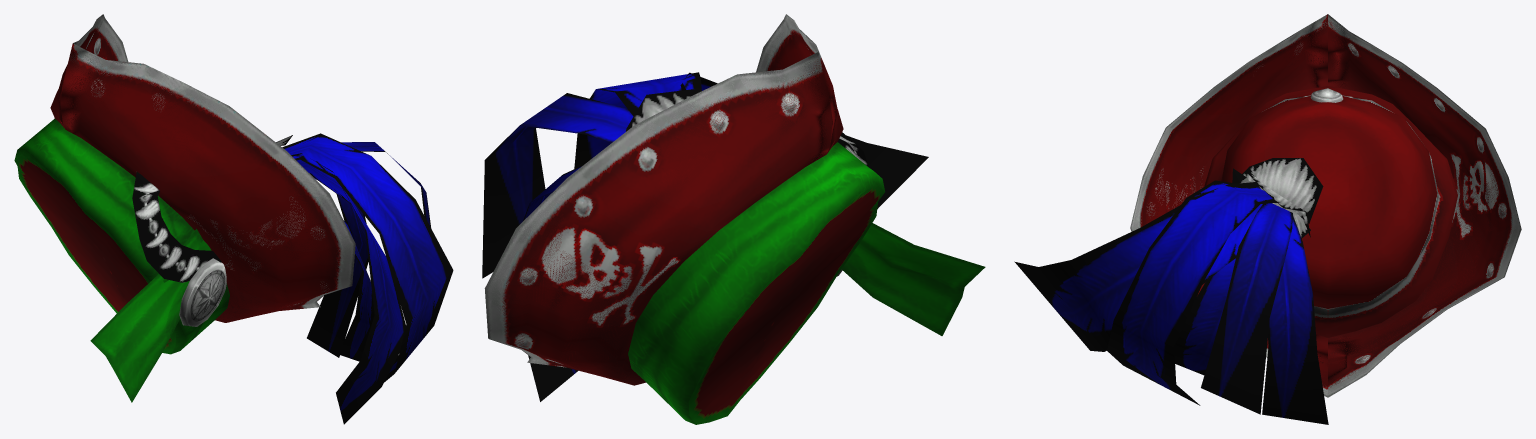
The picture shows the model from 3 angles, left to right: view 1: azimuth 30°, elevation 25°; view 2: azimuth 150°, elevation 25°; view 3: azimuth 270°, elevation 25°; orthographic projection. The views are drawn at different scales.
Visible parts, largest first — view 1: K1161; view 2: K1161; view 3: K1161.
Boxes of the visible parts, x1=… form: K1161: x1=14, y1=14, x2=453, y2=424; K1161: x1=482, y1=14, x2=985, y2=424; K1161: x1=1014, y1=14, x2=1521, y2=424.
Bounding box in the file's own units: 1.03 × 0.9006 × 1.33.
